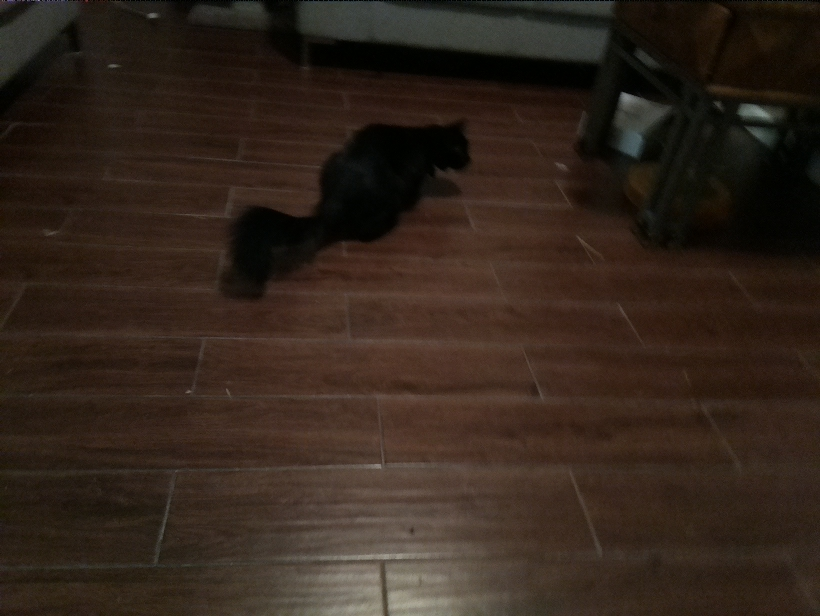cat: (208, 88, 496, 297)
